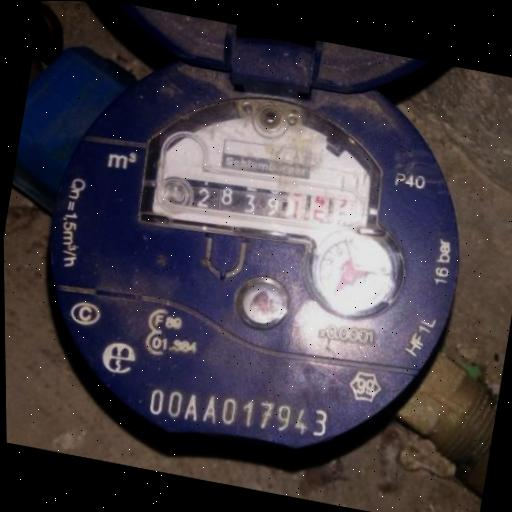0: (327, 195, 355, 228)
1: (279, 190, 309, 223)
2: (181, 176, 222, 210)
3: (234, 183, 262, 216)
4: (303, 194, 332, 226)
8: (215, 183, 241, 213)
9: (256, 187, 284, 219)
border_water_meter_number: (149, 119, 370, 247)
